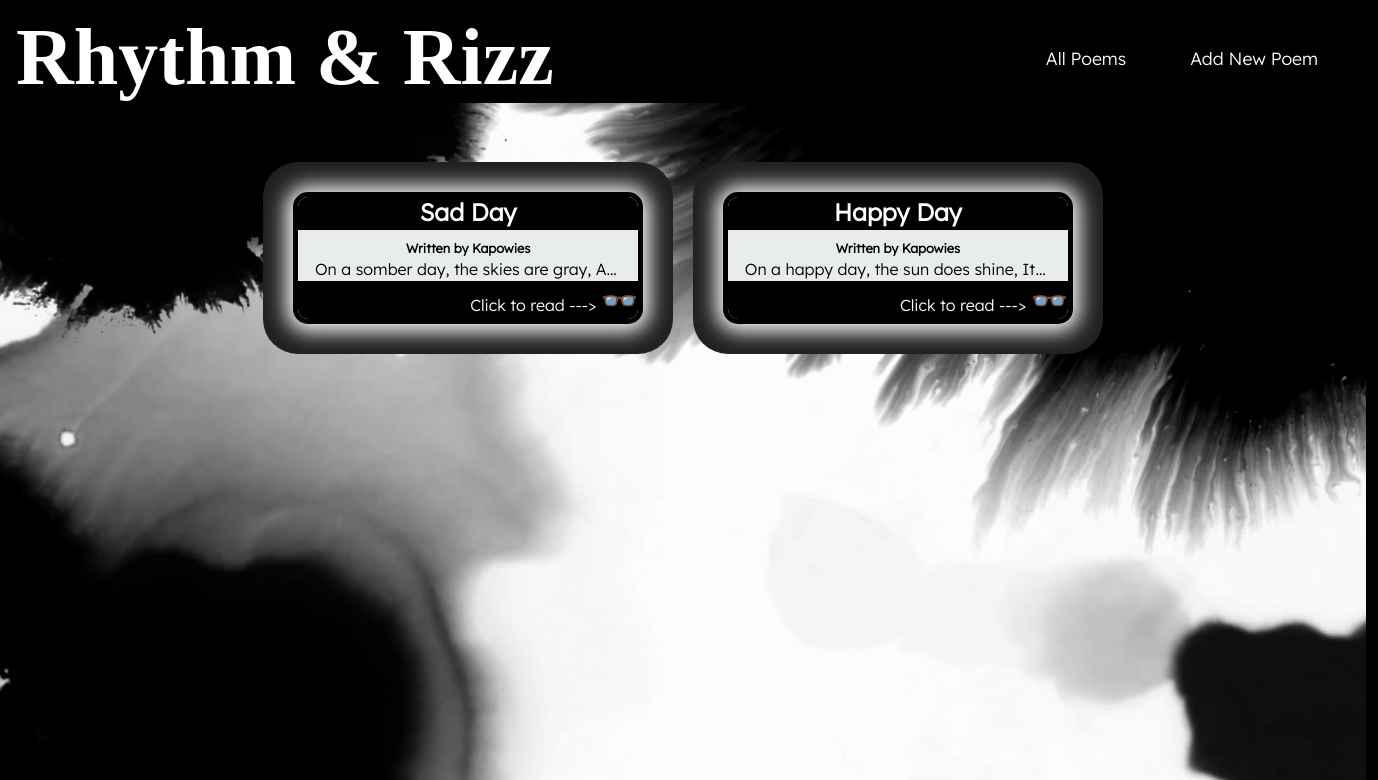
Test: Home Page Spec › Should have a header, nav options, and poems displayed
Check: the heading "Rhythm & Rizz" is shown, box left=16, top=12, right=554, bottom=103
Step 1. Click the link "Add New Poem" → (1254, 58), box left=1174, top=31, right=1334, bottom=85
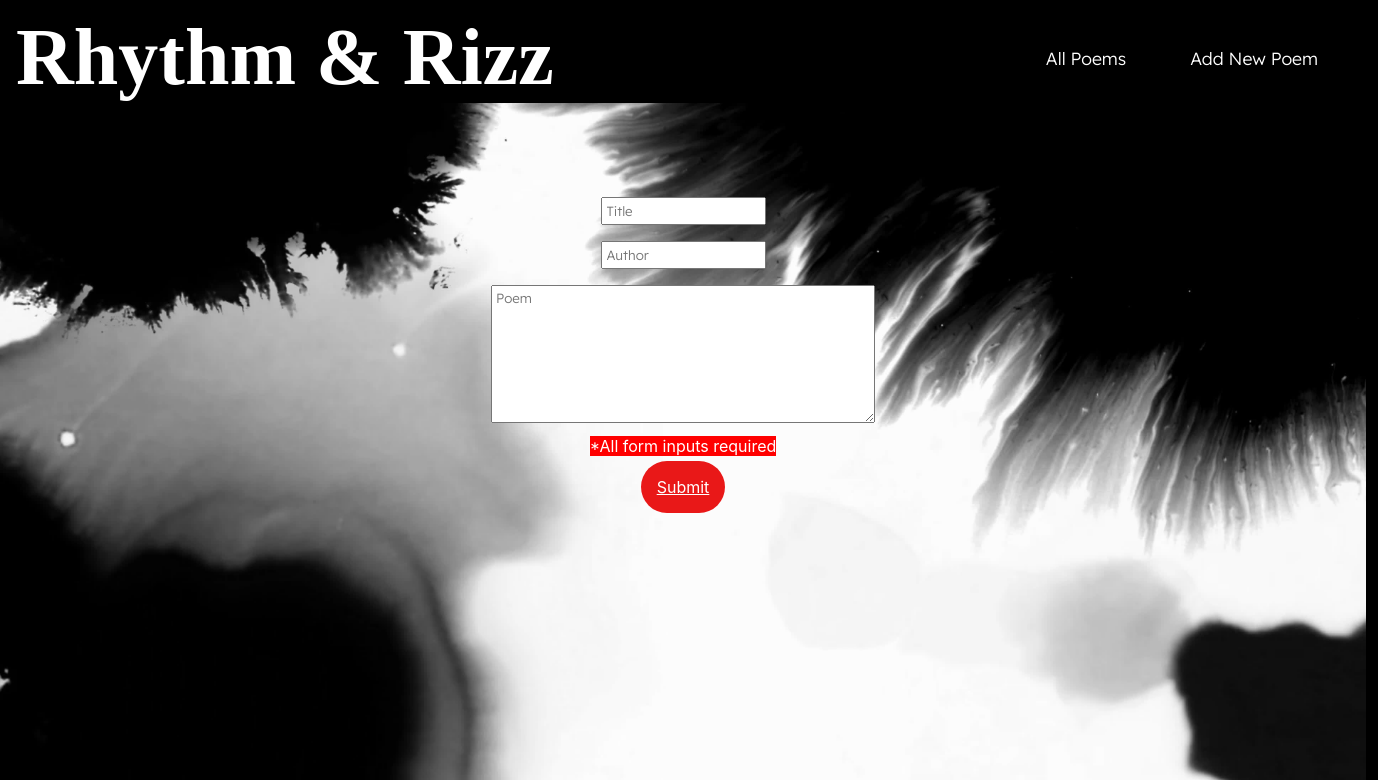
Check: the form with class "form-container" is shown, box left=491, top=197, right=875, bottom=513
Step 2. Click the link to "/" → (1087, 58), box left=1030, top=31, right=1143, bottom=85
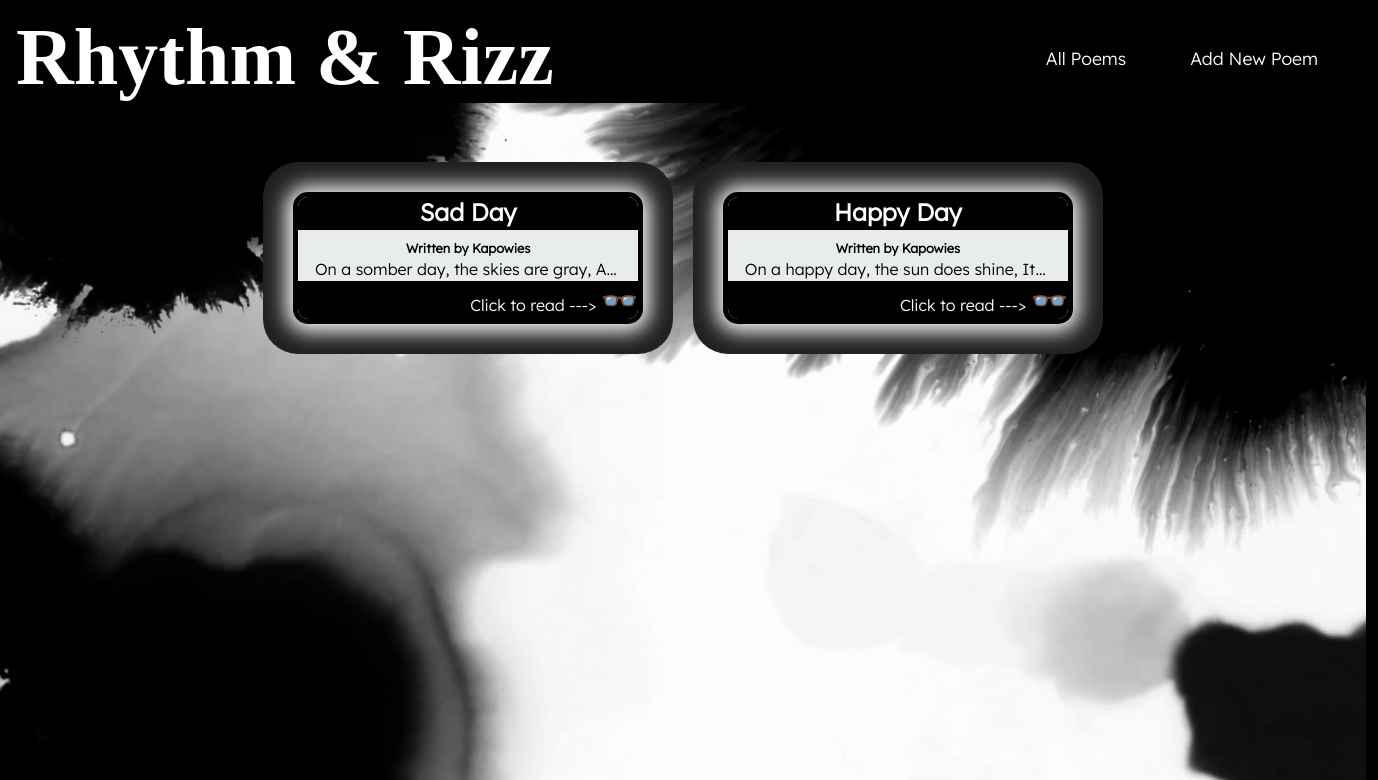
Check: the heading "Sad Day" is shown, box left=298, top=197, right=638, bottom=230
Check: the heading "Happy Day" is shown, box left=728, top=197, right=1068, bottom=230
Check: the text "On a happy day, the sun does shine, Its golden rays, a gift divine.The world awakens with a cheerful song, As nature's b" is shown, box left=745, top=259, right=1366, bottom=279
